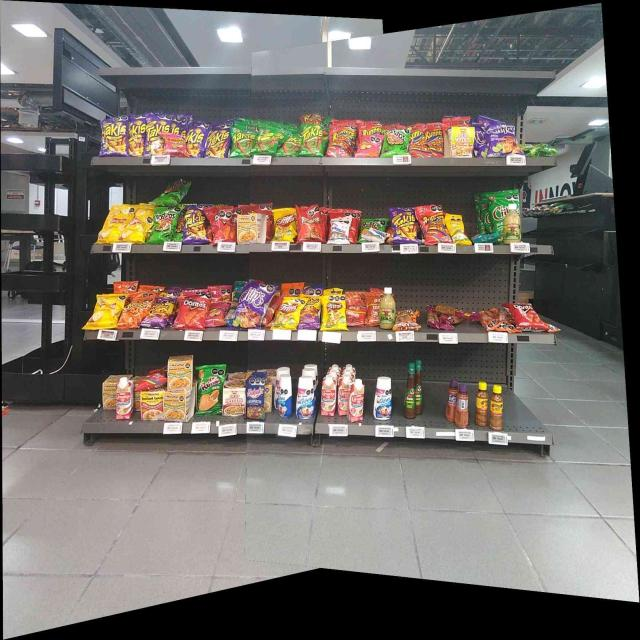bitzEnchilado90: (347, 299, 365, 326), (366, 294, 378, 326)
bitzEnchilado95: (481, 312, 511, 331)
bitzHabanero: (439, 306, 476, 318), (426, 308, 438, 328)
bokadosCacahuates: (247, 375, 263, 421)
botaneraChilito: (490, 385, 503, 430), (476, 382, 488, 426)
cheetosFlaminHot: (147, 298, 171, 328), (303, 292, 320, 328)
cheetosOriginal: (122, 298, 144, 328)
chipsFuego: (238, 284, 263, 329), (486, 123, 517, 156)
chipsJalapeno: (492, 193, 502, 242)
churrumais: (165, 133, 186, 156), (358, 135, 378, 156), (208, 306, 225, 326)
delPrimoSalsa: (504, 204, 520, 242), (380, 288, 394, 328)
doritosNacho: (178, 297, 205, 327), (210, 208, 233, 240), (513, 303, 540, 327)
fritosLimon: (325, 295, 345, 330), (274, 210, 295, 242), (280, 298, 298, 330)
leoCacahuates: (331, 218, 348, 243)
leoMix: (396, 309, 419, 330)
maruchanPollo: (164, 391, 193, 420), (238, 214, 265, 243), (168, 356, 192, 388), (102, 375, 116, 409)
maruchanRes: (140, 392, 163, 420)
nestleCarnation: (116, 379, 133, 419), (321, 376, 336, 416), (349, 382, 363, 422), (338, 376, 348, 416)
nestleLechera: (374, 376, 392, 419), (296, 376, 314, 418), (279, 375, 293, 417)
nissinCamaron: (446, 127, 474, 157)
nissinRes: (223, 381, 246, 416)
rancheritos: (298, 208, 320, 242)
rufflesQueso: (198, 367, 222, 415), (361, 218, 386, 231)
runners: (420, 206, 446, 241), (329, 125, 351, 156), (428, 125, 443, 157), (411, 128, 426, 158), (358, 120, 382, 135)
sabritasOriginal: (94, 295, 118, 328), (104, 206, 125, 242), (127, 210, 150, 242)
salsaBufalo: (404, 362, 415, 418), (416, 359, 423, 415)
semillasCalabaza: (450, 215, 467, 242)
tajinDulce: (457, 384, 469, 426), (446, 378, 456, 421)
takisFuego: (102, 118, 126, 156), (393, 206, 416, 242), (147, 114, 164, 155), (186, 206, 204, 244), (128, 115, 145, 155), (209, 124, 228, 158), (187, 124, 205, 157)
takisOriginal: (253, 130, 280, 154), (301, 125, 321, 155), (233, 128, 251, 158), (281, 137, 299, 155)
tostitos: (154, 206, 176, 243), (383, 130, 408, 156), (159, 181, 187, 204)
